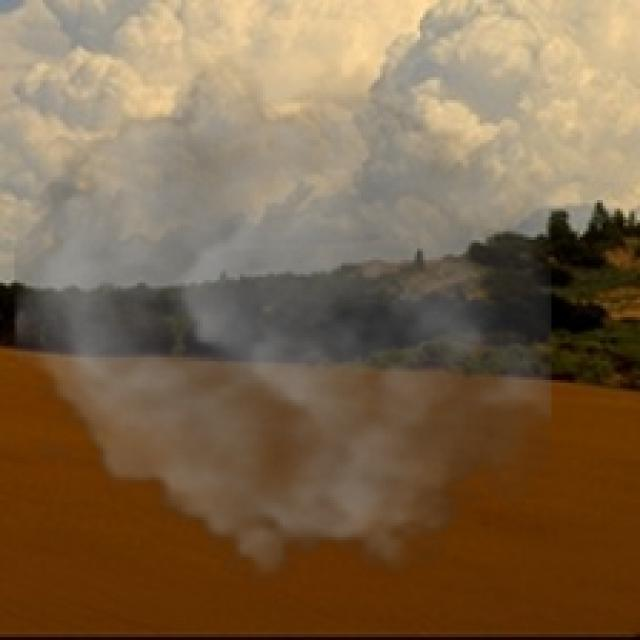Smoke: (14, 55, 552, 594)
